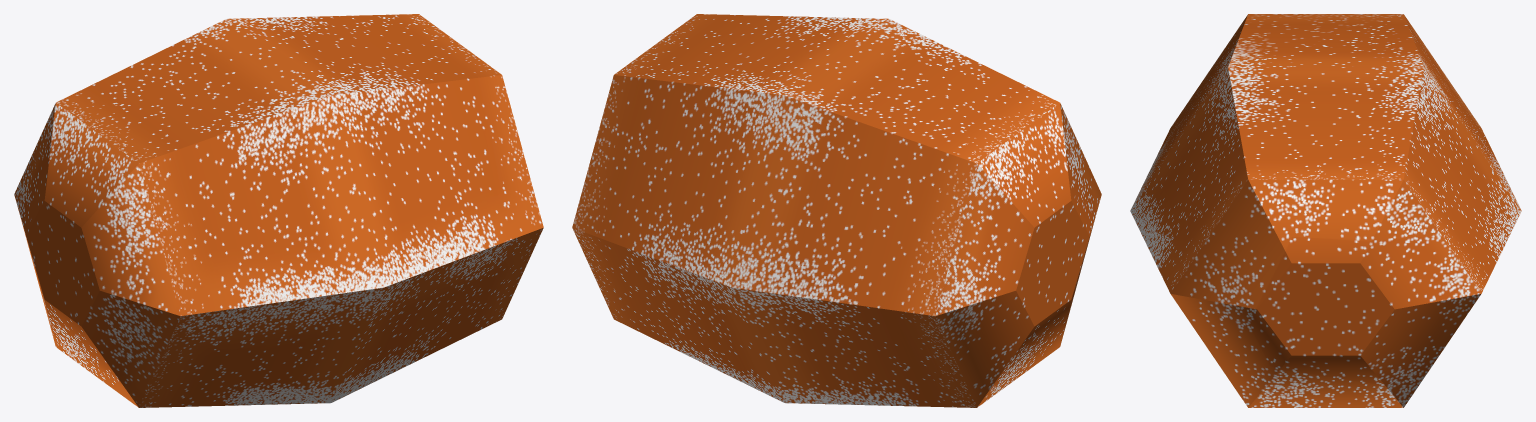
The model's file is Tamarindo.fbx.
The picture shows the model from 3 angles, left to right: view 1: azimuth 30°, elevation 25°; view 2: azimuth 150°, elevation 25°; view 3: azimuth 270°, elevation 25°; orthographic projection. The views are drawn at different scales.
Visible parts, largest first — view 1: pCylinder6; view 2: pCylinder6; view 3: pCylinder6.
Part boxes in pixels (x1,y1,x2,y2): pCylinder6: (14, 14, 543, 407); pCylinder6: (572, 14, 1101, 407); pCylinder6: (1130, 14, 1521, 407).
Bounding box in the file's own units: 24.93 × 16.96 × 20.94.
Materials: 1 (1 with a texture image).
